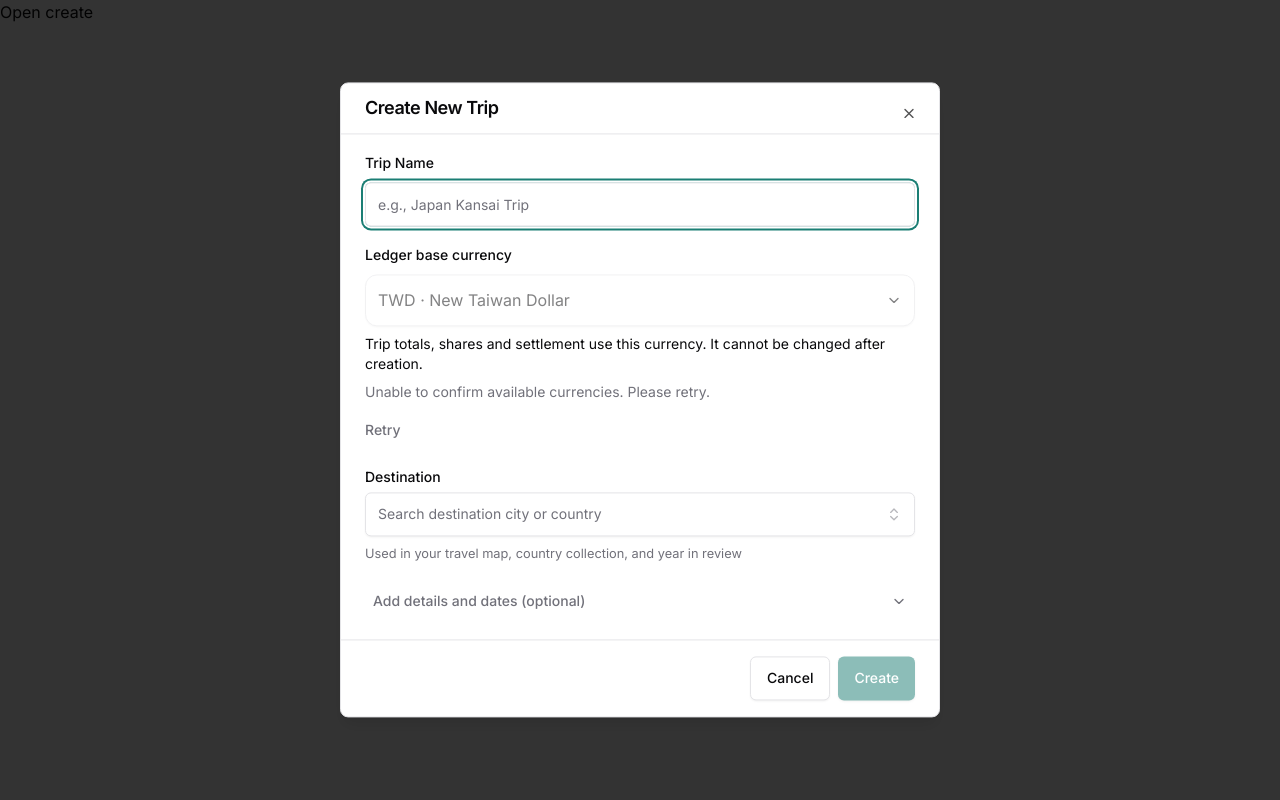
Test: failed capabilities retain input and offer an adjacent retry without permitting a write
Type "Retained name" into the field labelled "Trip Name". click: (640, 204)
box: [365, 182, 915, 226]
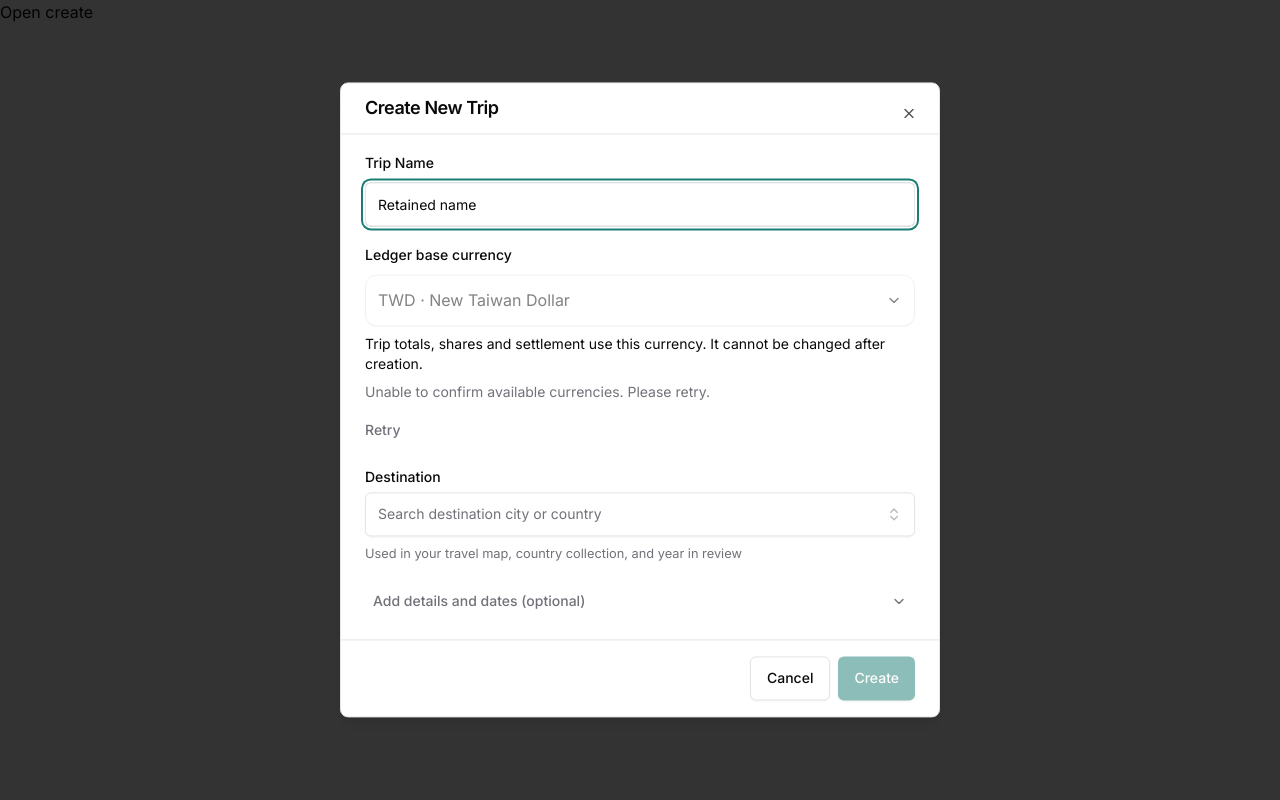
Expected: the text "Unable to confirm available currencies. Please retry." is shown, [365, 383, 710, 400]
Expected: the button "Create" is disabled, [838, 657, 915, 701]
Submit the form with id "create-trip-form", box [365, 150, 915, 624]
Click the button "Retry". click: (383, 430)
box: [365, 406, 401, 454]
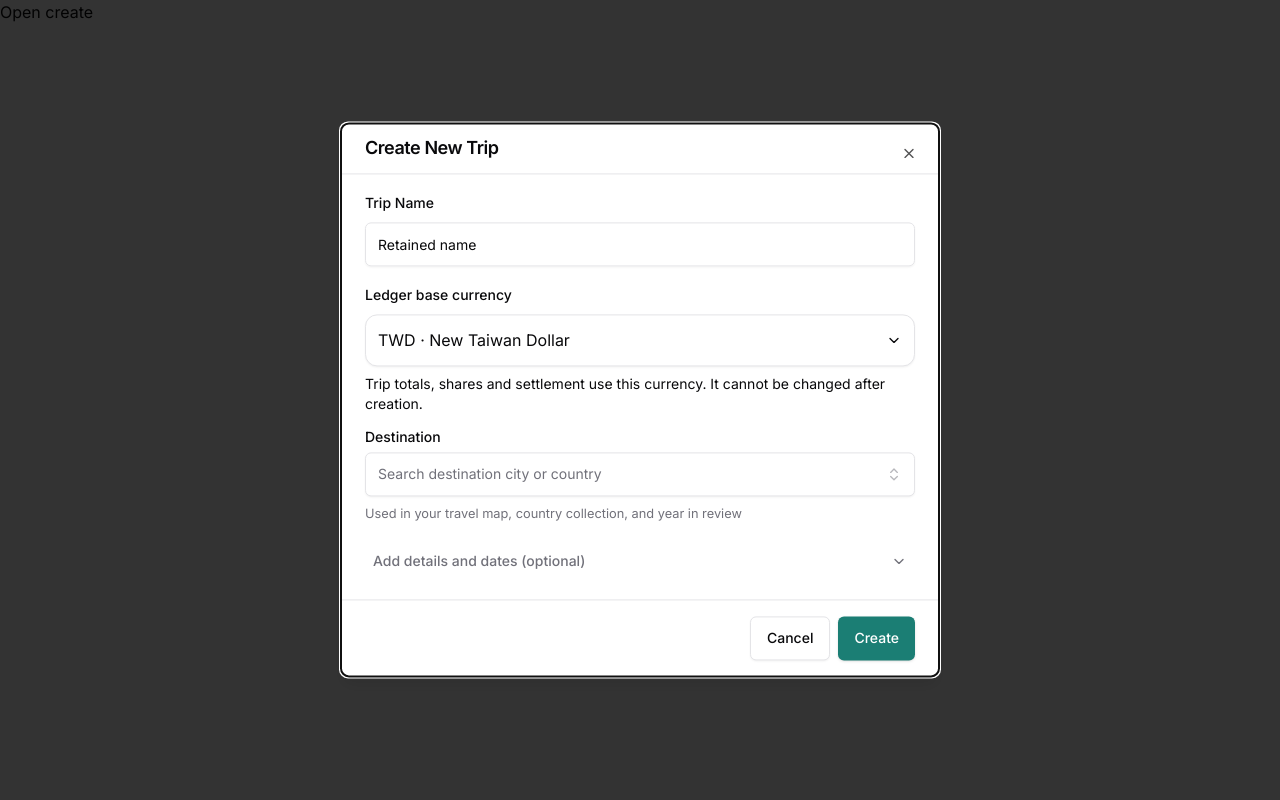
Now the button "Create" is enabled, box [838, 617, 915, 661]
